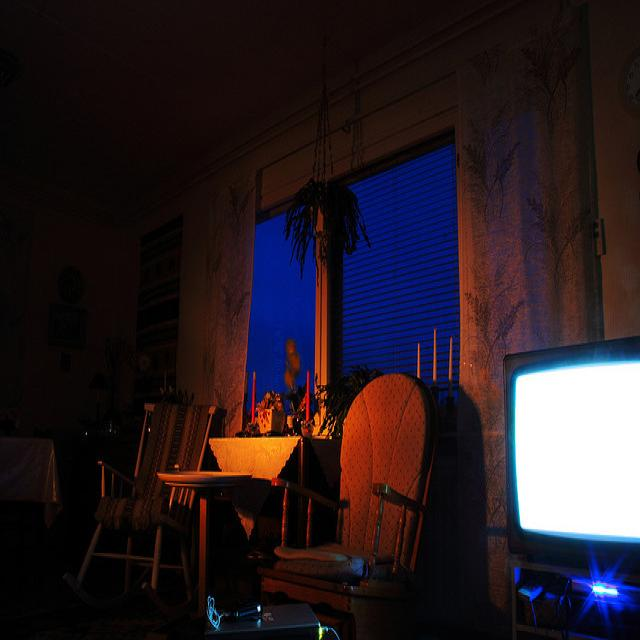Table: (215, 371, 343, 548), (166, 444, 270, 640), (0, 398, 66, 578)
chair: (280, 374, 445, 636), (70, 385, 226, 638)
